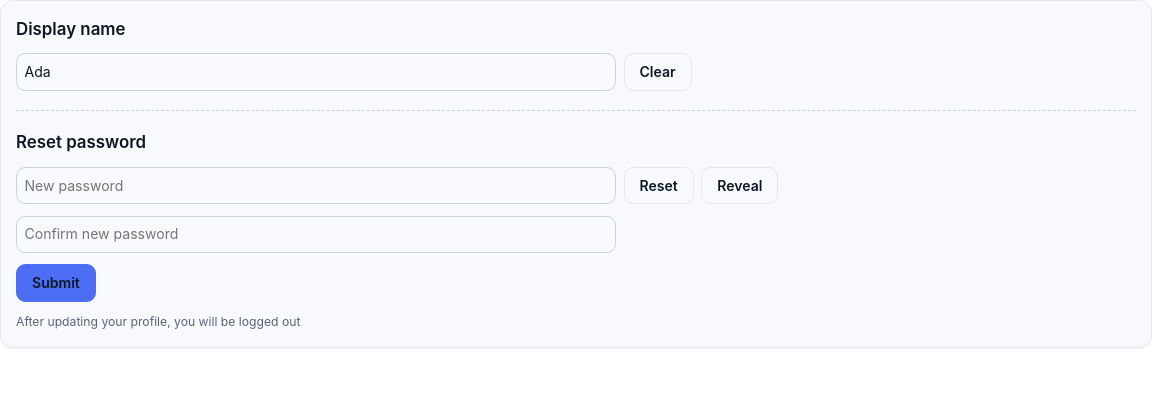
EditProfileSettings validation › blocks a submit with no changes
Click the button "Submit". click: (56, 283)
box: top-left (16, 264), bottom-right (96, 302)
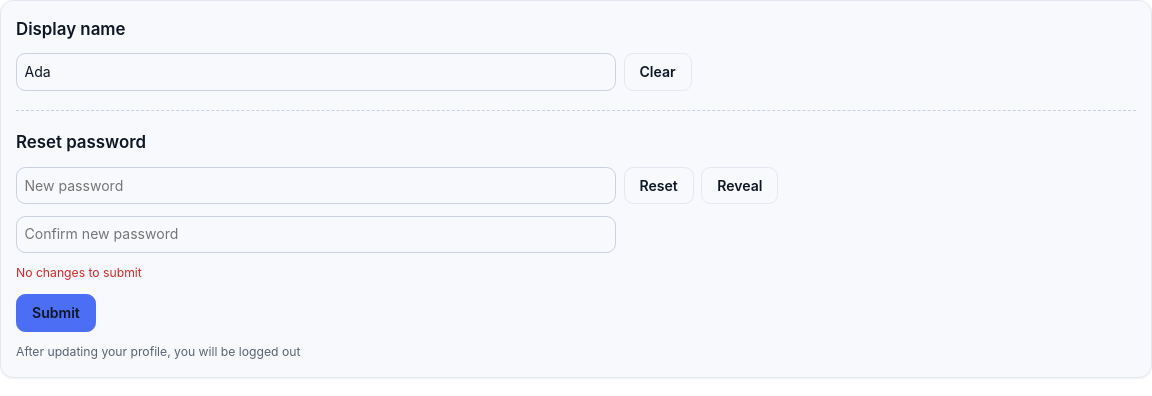
expect the text "No changes to submit" is shown: met, box top-left (16, 265), bottom-right (142, 280)
